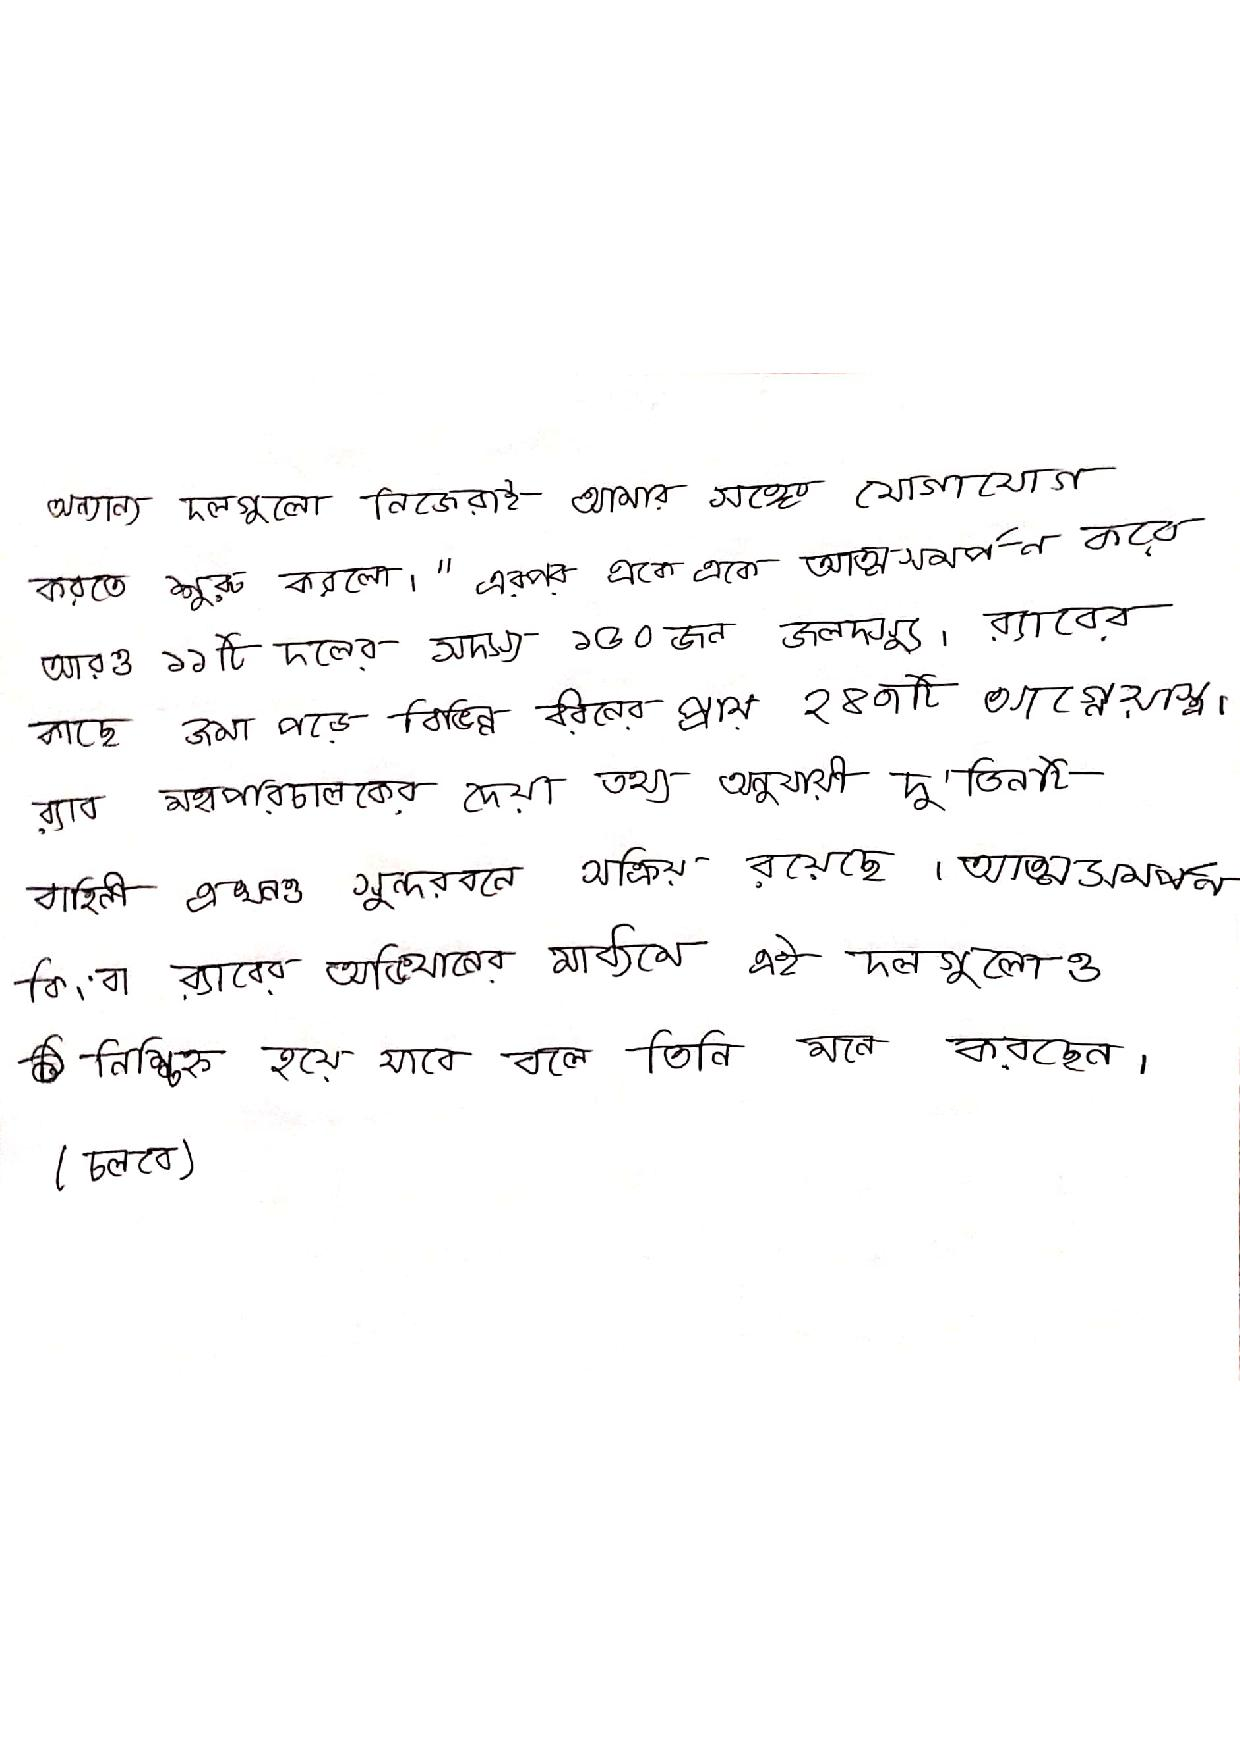line: (30, 514, 1206, 617), (30, 671, 1229, 754), (42, 601, 1178, 688), (19, 921, 1099, 1011), (32, 753, 1104, 840), (30, 848, 1235, 914), (32, 1027, 1151, 1092), (44, 464, 1114, 530), (50, 1139, 201, 1200)
